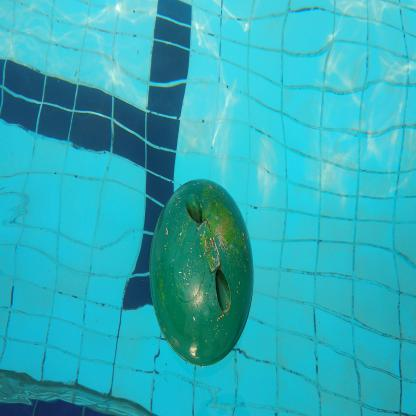green_buoy: (148, 179, 258, 370)
